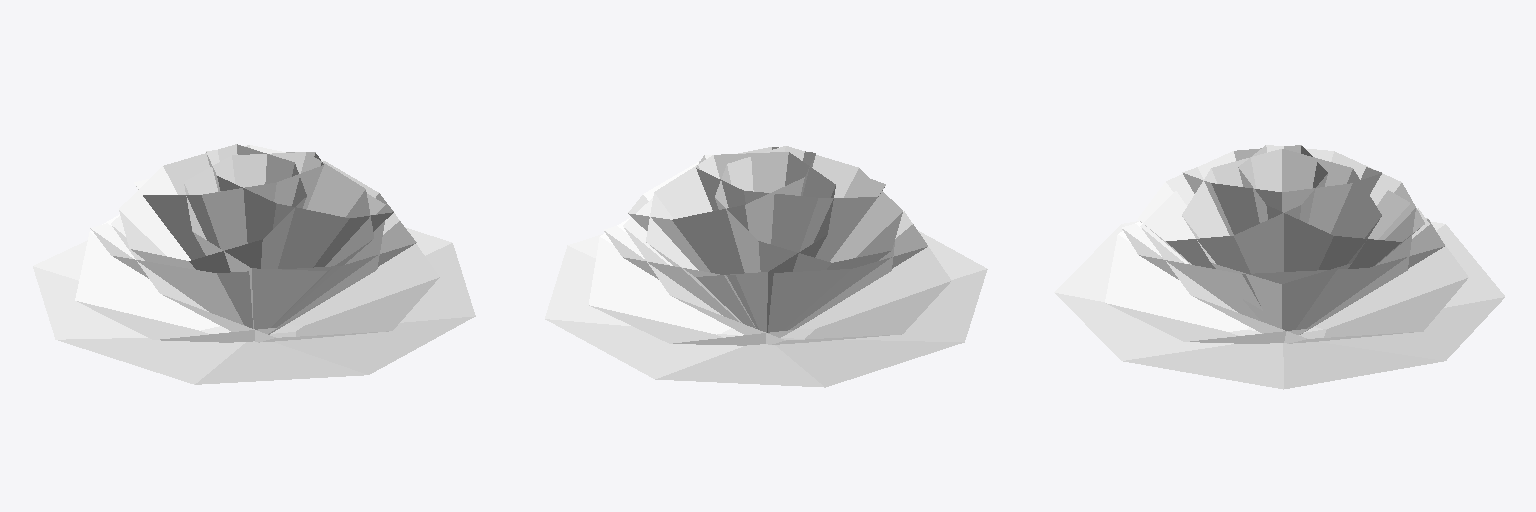
The model's file is plant.obj.
3 views of the same model, side by side, from view 1: azimuth 30°, elevation 25°; view 2: azimuth 150°, elevation 25°; view 3: azimuth 270°, elevation 25° (orthographic).
Visible parts, largest first — view 1: tiny_weed_04; view 2: tiny_weed_04; view 3: tiny_weed_04.
Part boxes in pixels (x1,y1,x2,y2): tiny_weed_04: (33,144,475,384); tiny_weed_04: (545,146,987,387); tiny_weed_04: (1054,145,1504,389).
Bounding box in the file's own units: 164 × 70.21 × 162.